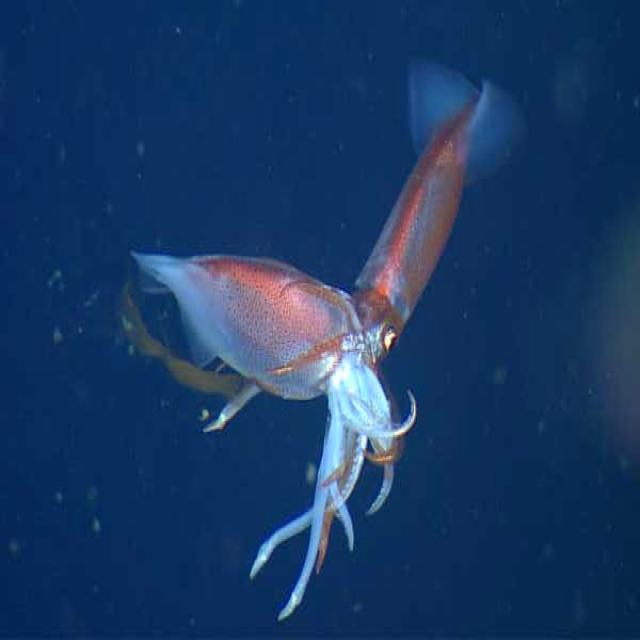squid: (132, 96, 510, 618)
